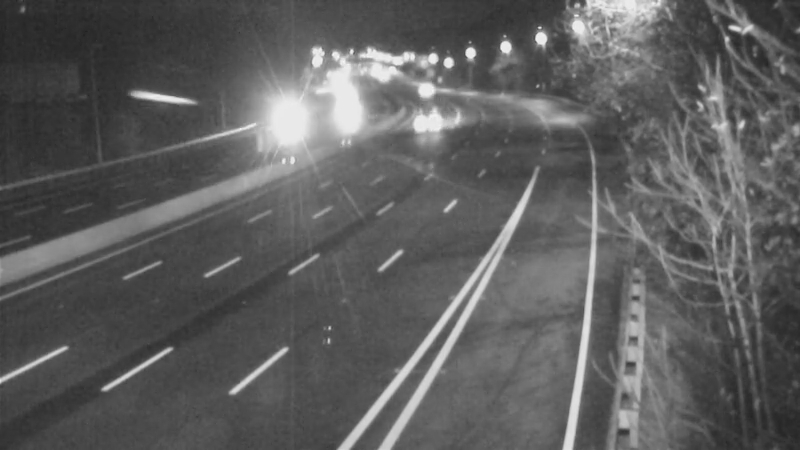vehicle: (395, 62, 445, 112), (399, 95, 449, 145), (259, 97, 309, 147), (318, 88, 368, 138)
